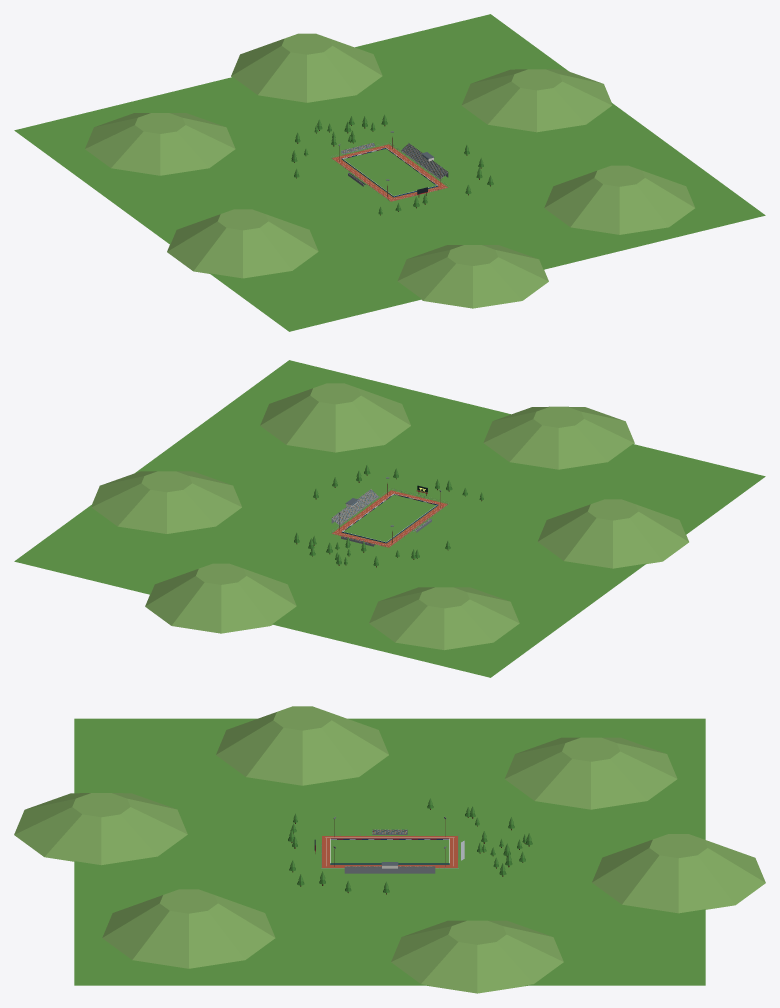
The model's file is highschool.glb.
3 views of the same model, one above another, from view 1: azimuth 30°, elevation 25°; view 2: azimuth 150°, elevation 25°; view 3: azimuth 270°, elevation 25° (orthographic). The views are drawn at different scales.
Visible parts, largest first — view 1: highschool; view 2: highschool; view 3: highschool.
Part boxes in pixels (x1,y1,x2,y2): highschool: (14,14,765,331); highschool: (14,360,765,677); highschool: (14,706,765,993).
Bounding box in the file's own units: 671 × 34.5 × 762.
20 materials, 1 textured.
